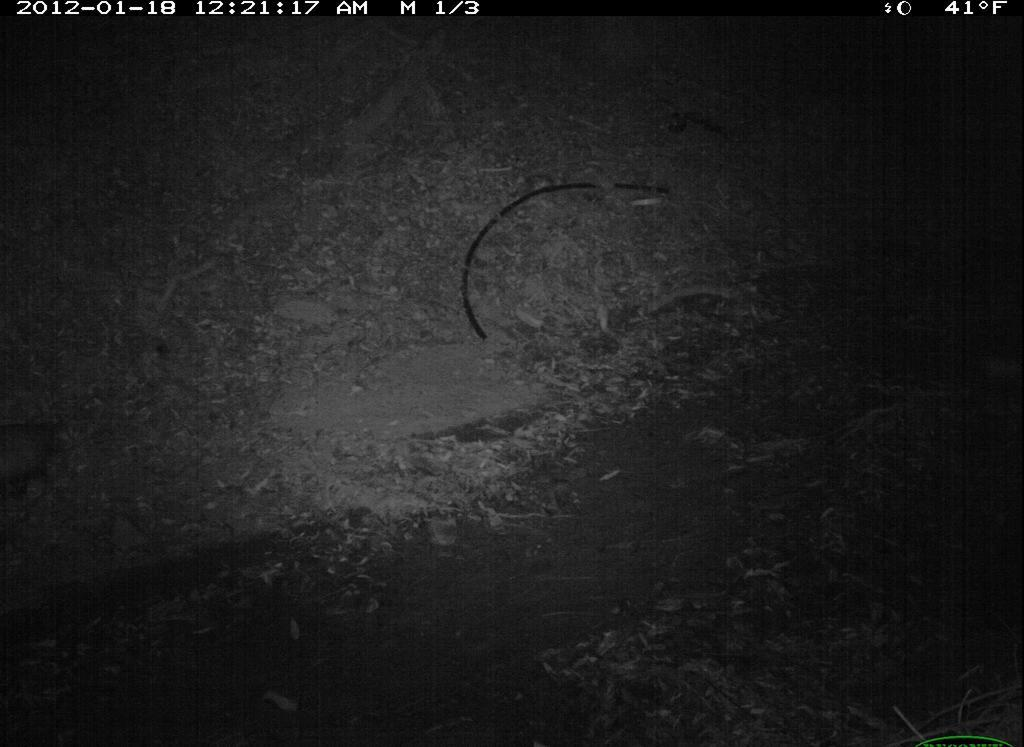opossum: (3, 393, 80, 529)
